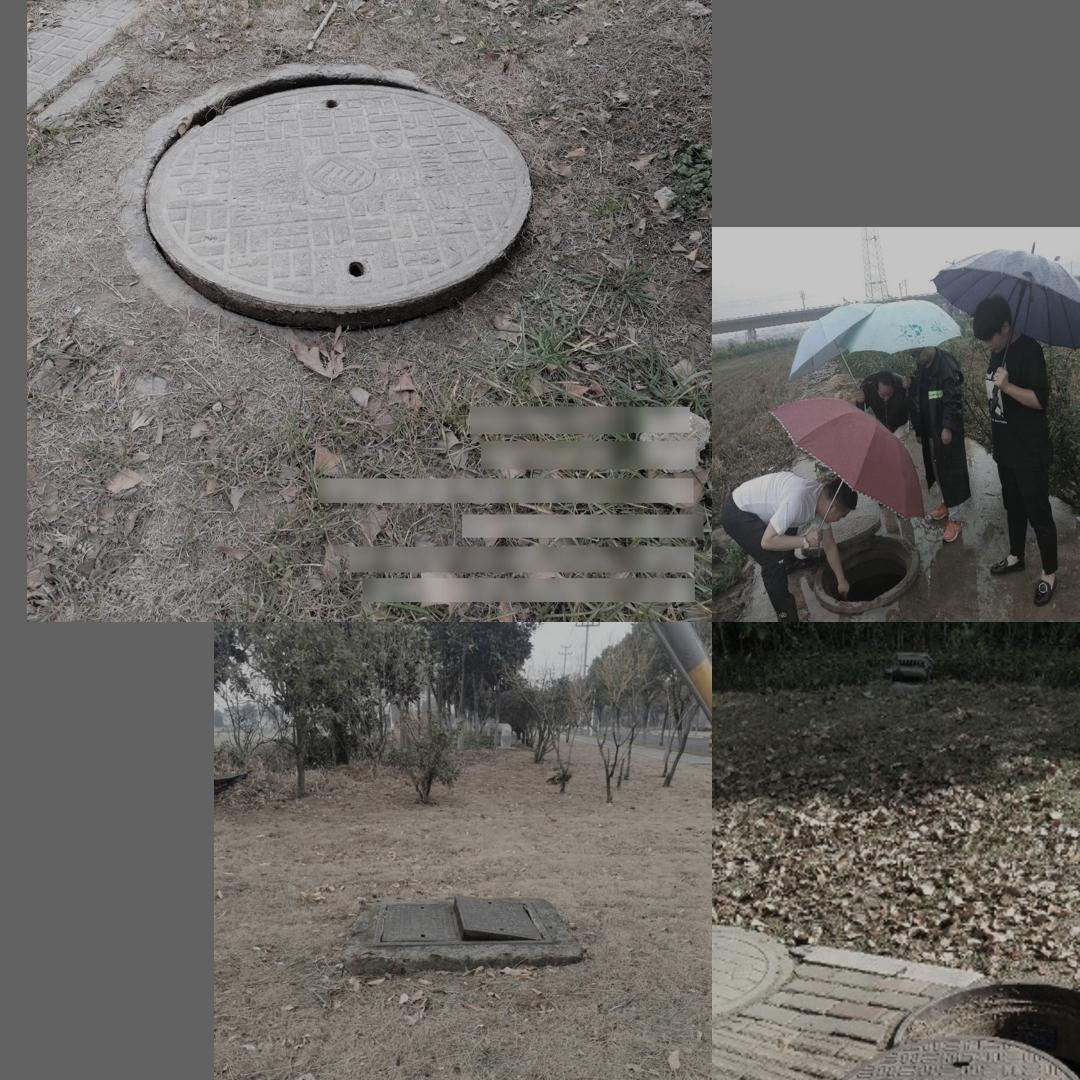uncovered: (117, 61, 530, 329), (799, 937, 1080, 1080), (332, 873, 568, 977), (792, 500, 929, 613)
